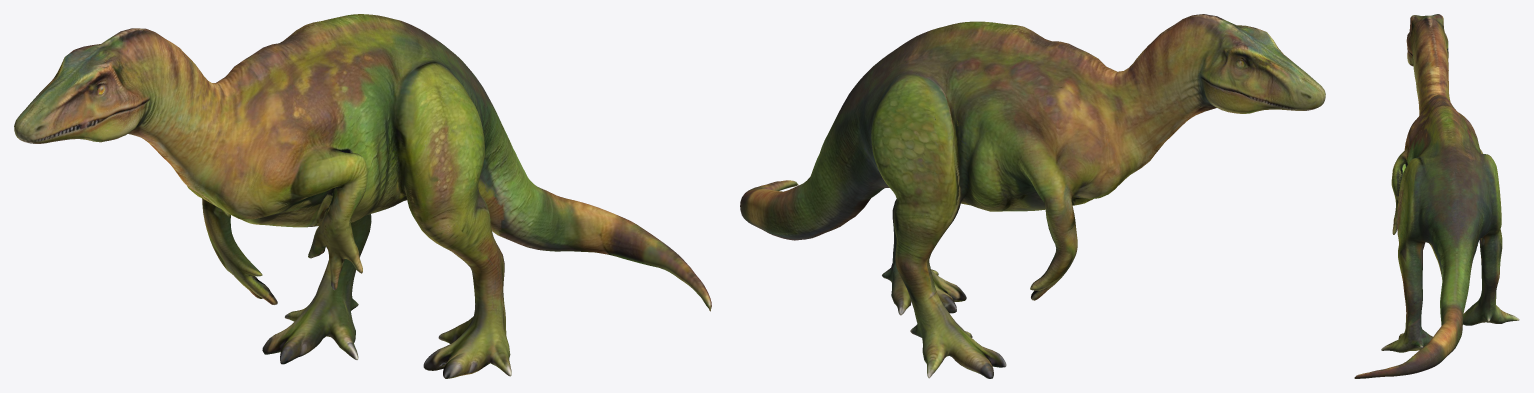
3 renders of one model, left to right at view 1: azimuth 30°, elevation 25°; view 2: azimuth 150°, elevation 25°; view 3: azimuth 270°, elevation 25°, orthographic. The views are drawn at different scales.
Visible parts, largest first — view 1: Mesh0; view 2: Mesh0; view 3: Mesh0.
Part boxes in pixels (x1,y1,x2,y2): Mesh0: (14, 14, 711, 378); Mesh0: (740, 14, 1325, 378); Mesh0: (1354, 14, 1519, 378).
Size of the model in its own units: 1.27 by 0.7586 by 0.4755.
1 material, 1 textured.
